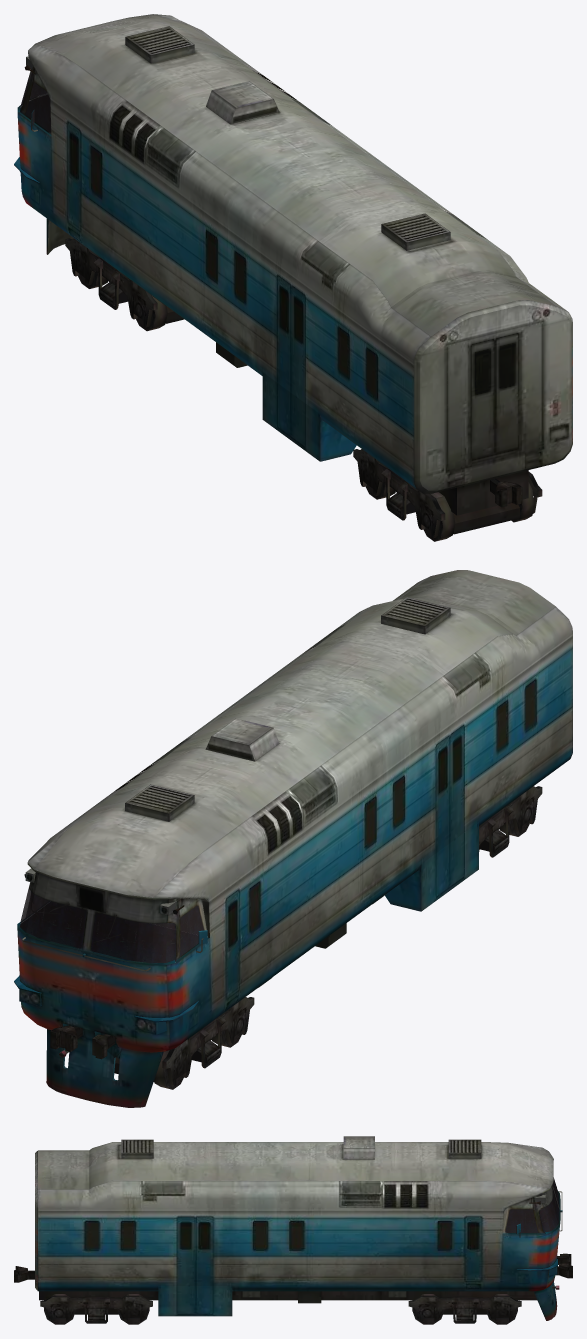
File: train001.glb
3 views of the same model, one above another, from view 1: azimuth 30°, elevation 25°; view 2: azimuth 150°, elevation 25°; view 3: azimuth 270°, elevation 25° (orthographic). The views are drawn at different scales.
Parts seen in each view (by area): view 1: 0_train001, 1_train001_glass; view 2: 0_train001, 1_train001_glass; view 3: 0_train001, 1_train001_glass.
Part boxes in pixels (<box>): 0_train001: <box>14,14,572,541</box>; 1_train001_glass: <box>20,76,51,132</box>; 0_train001: <box>14,570,572,1107</box>; 1_train001_glass: <box>20,888,203,962</box>; 0_train001: <box>14,1136,572,1324</box>; 1_train001_glass: <box>505,1177,559,1233</box>.
Size of the model in its own units: 4.05 by 5.76 by 17.37.
Materials: 2 (2 with a texture image).
